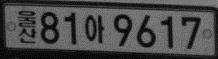1: (62, 10, 77, 46), (159, 14, 174, 49)
6: (136, 14, 156, 47)
7: (179, 15, 202, 50)
8: (40, 10, 59, 44)
9: (112, 12, 133, 47)
아: (83, 13, 105, 44)
울산_V: (15, 9, 38, 44)
